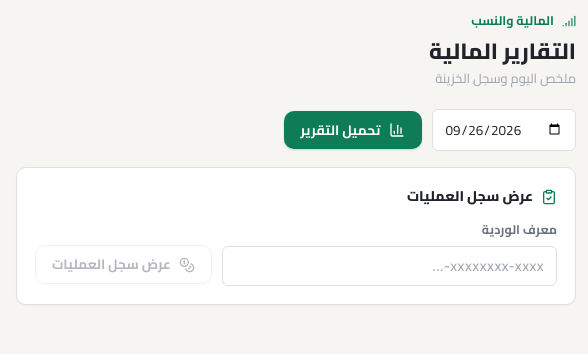
ReportsPage (OperationsPage mode="reports") › shows the empty state when a shift has no audit entries
Type "sh-9" into the field labelled "معرف الوردية". click: point(389, 266)
box: [222,246,557,286]
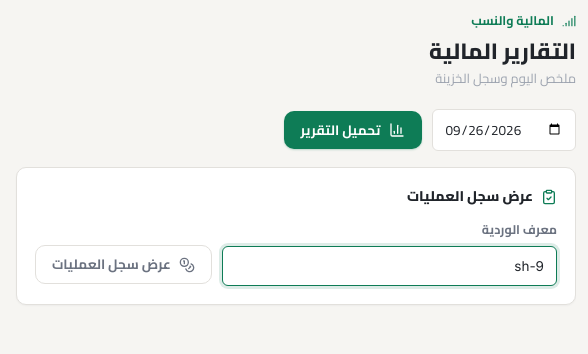
Click the button "عرض سجل العمليات". click: point(123, 265)
box: [35,245,212,284]
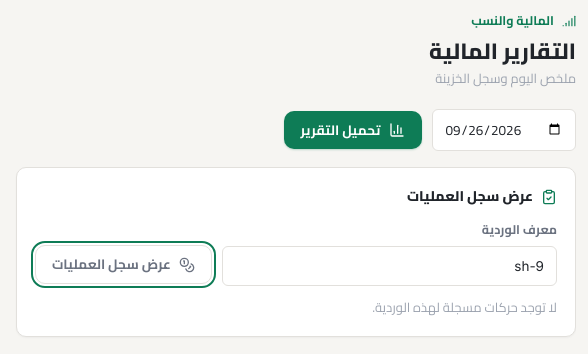
expect the text "لا توجد حركات مسجلة لهذه الوردية." is shown: met, box [372,295,557,319]
